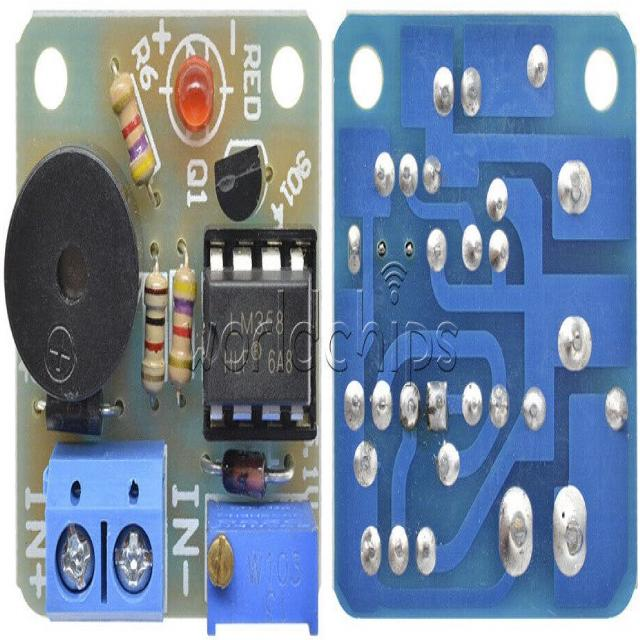IC: (202, 237, 312, 413)
LED: (172, 45, 219, 132)
buzzer: (5, 142, 141, 390)
connector -5v-: (44, 444, 164, 620)
diode -D1-: (34, 392, 111, 440), (214, 450, 283, 496)
potentiometer POT1: (203, 498, 313, 638)
resistor IR1: (104, 61, 165, 203), (171, 233, 192, 409), (144, 245, 162, 400)
